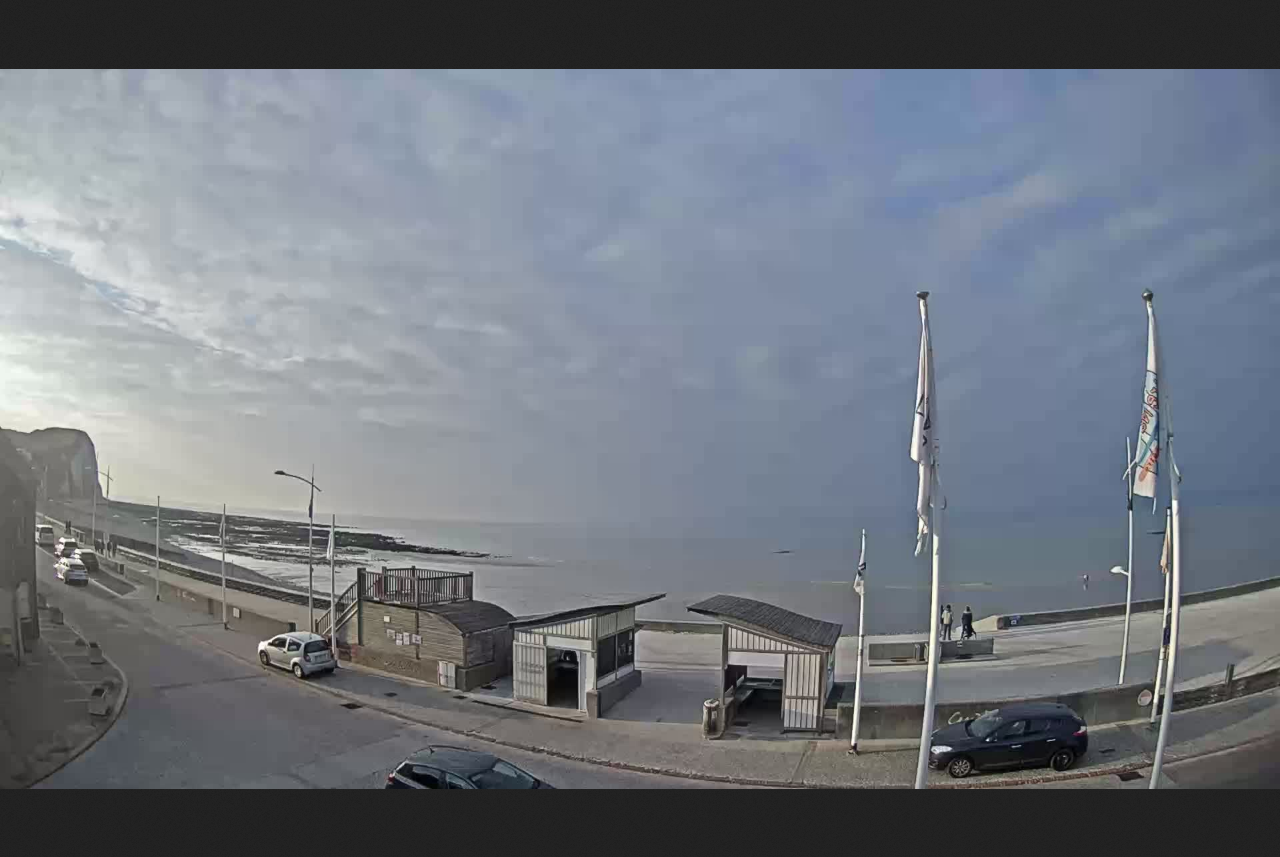no: (1123, 301, 1180, 512), (904, 307, 944, 563), (847, 536, 875, 601), (211, 508, 234, 554), (322, 523, 343, 573)
